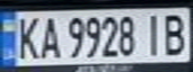2: (100, 12, 121, 59)
8: (118, 11, 142, 58)
9: (81, 12, 103, 60), (63, 12, 84, 60)
A: (36, 14, 63, 61)
B: (160, 10, 190, 56)
I: (139, 10, 169, 57)
K: (12, 14, 42, 61)
